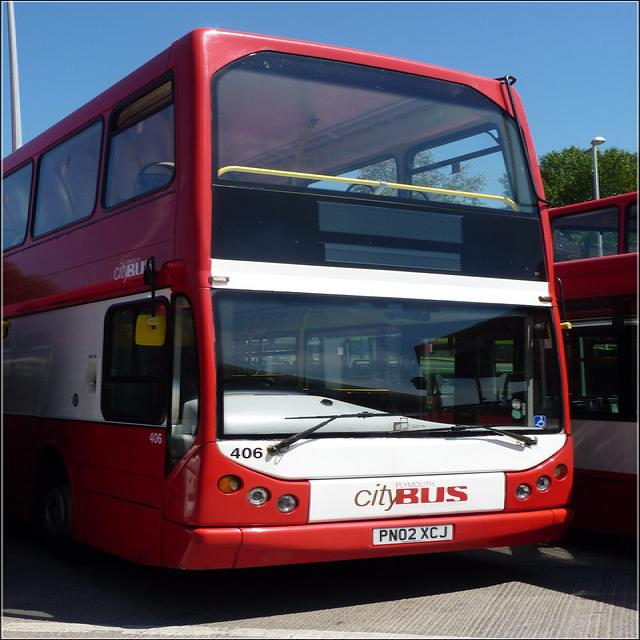Bus: (3, 28, 568, 559), (552, 190, 639, 530)
